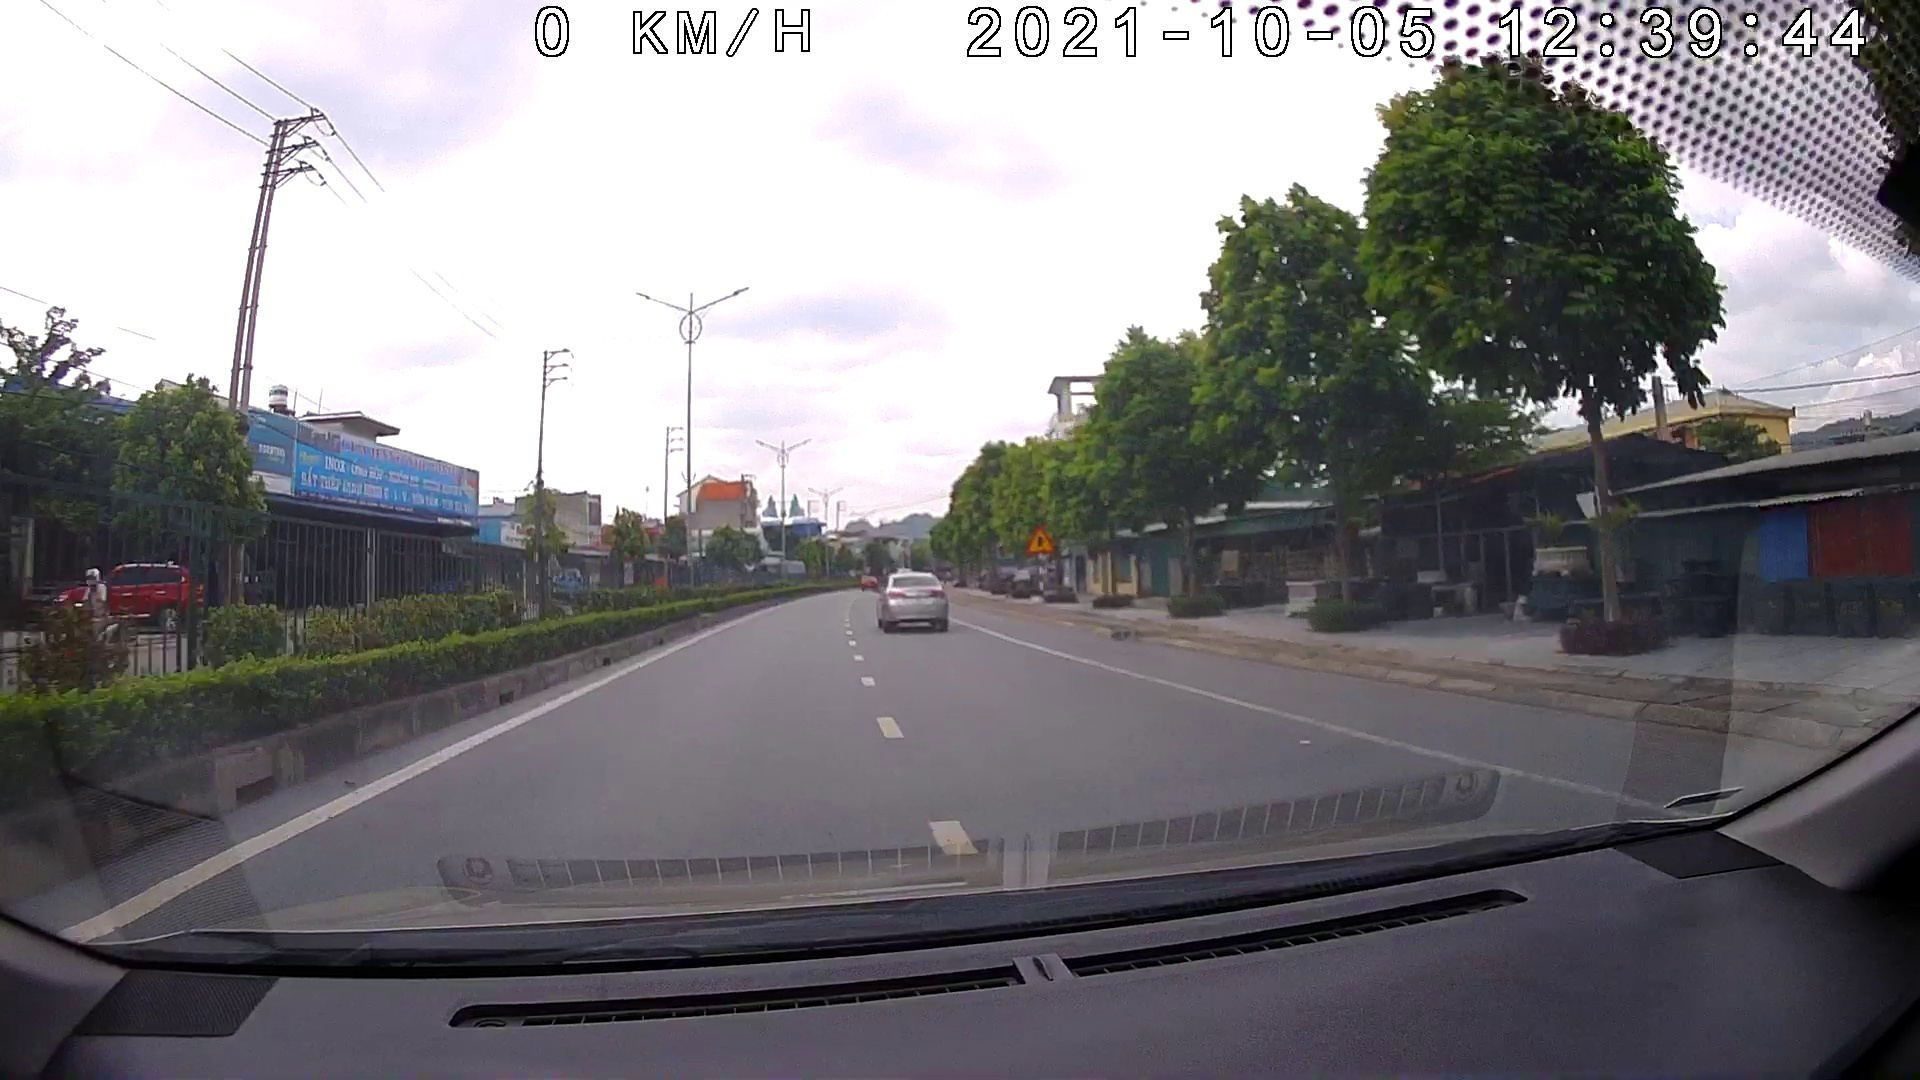Giao nhau voi duong khong uu tien: (1026, 525, 1054, 556)
